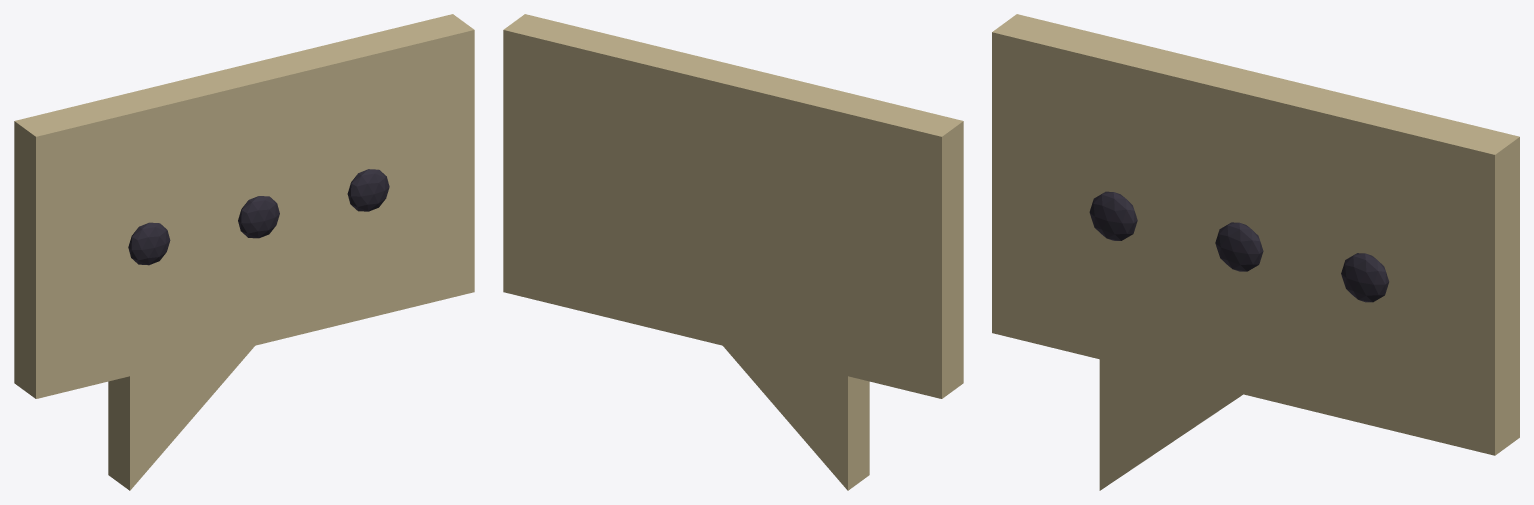
The model's file is talking-pumpkin.glb.
3 views of the same model, side by side, from view 1: azimuth 30°, elevation 25°; view 2: azimuth 150°, elevation 25°; view 3: azimuth 330°, elevation 25° (orthographic). The views are drawn at different scales.
Visible parts, largest first — view 1: Speech bubble.001, Spoken word dot.003; view 2: Speech bubble.001; view 3: Speech bubble.001, Spoken word dot.003.
Part boxes in pixels (left/top/right/bottom): Speech bubble.001: left=14, top=14, right=474, bottom=490; Spoken word dot.003: left=128, top=169, right=389, bottom=265; Speech bubble.001: left=503, top=14, right=963, bottom=490; Speech bubble.001: left=992, top=14, right=1519, bottom=490; Spoken word dot.003: left=1089, top=191, right=1389, bottom=302.
Bounding box in the file's own units: 0.028 × 0.023 × 0.0034.
